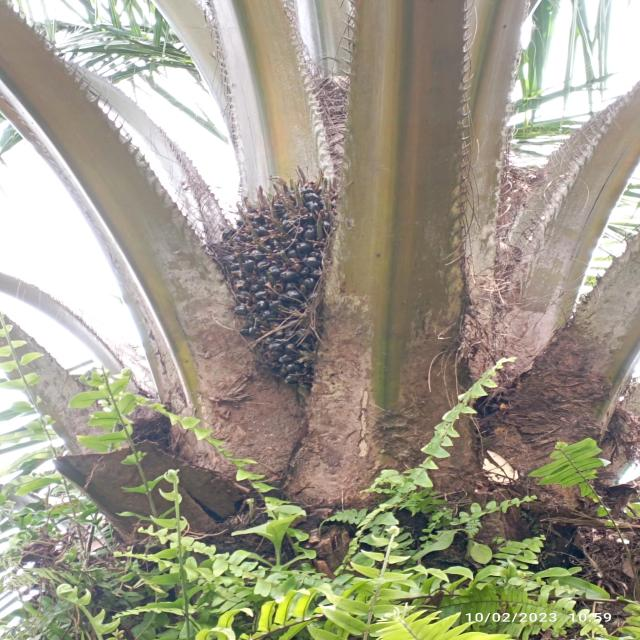fraksi 00: (186, 168, 404, 359)
